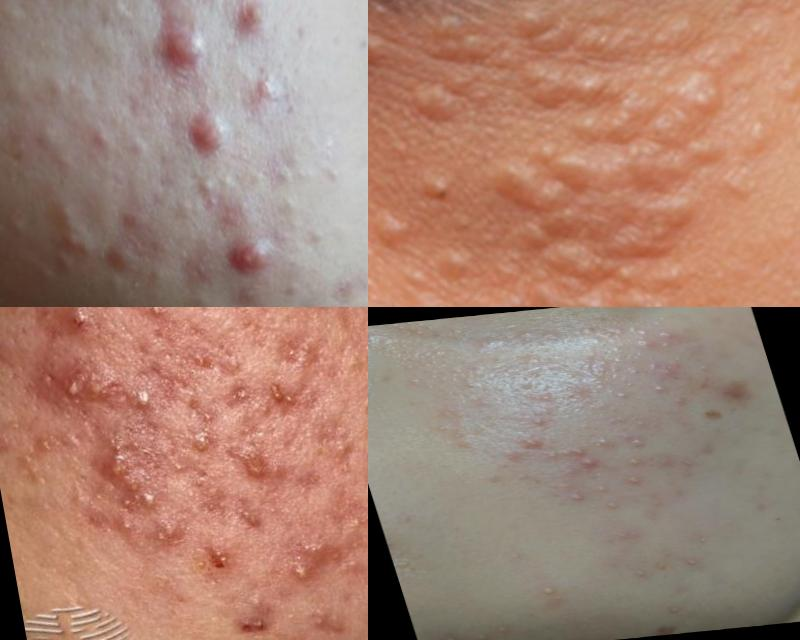papular: (166, 111, 232, 188), (154, 30, 230, 87), (244, 62, 301, 116), (239, 232, 290, 284), (238, 435, 276, 500), (47, 308, 100, 349), (718, 376, 778, 406), (151, 1, 210, 13)
purulent: (153, 502, 202, 558), (168, 419, 221, 468), (516, 583, 583, 615), (246, 3, 280, 60), (288, 552, 332, 595), (437, 620, 525, 640), (558, 444, 610, 475), (516, 402, 563, 429), (512, 431, 550, 455), (616, 434, 652, 453), (626, 565, 658, 584), (595, 478, 629, 495), (659, 601, 691, 619), (678, 554, 708, 572), (564, 491, 591, 509), (629, 459, 659, 471), (626, 474, 645, 488)
sebo-crystan-conglo: (49, 353, 144, 416), (102, 445, 155, 524), (274, 308, 343, 322)
syringoma: (427, 1, 746, 308), (609, 1, 800, 139)
whitehead: (592, 319, 713, 356), (297, 218, 346, 266), (40, 60, 87, 106), (602, 359, 674, 388), (188, 170, 249, 202), (126, 131, 159, 166), (40, 260, 66, 300), (139, 308, 184, 331), (398, 375, 442, 398), (32, 125, 56, 157), (1, 206, 18, 251), (1, 118, 13, 168), (608, 389, 638, 404), (600, 498, 624, 513), (651, 386, 673, 397)
